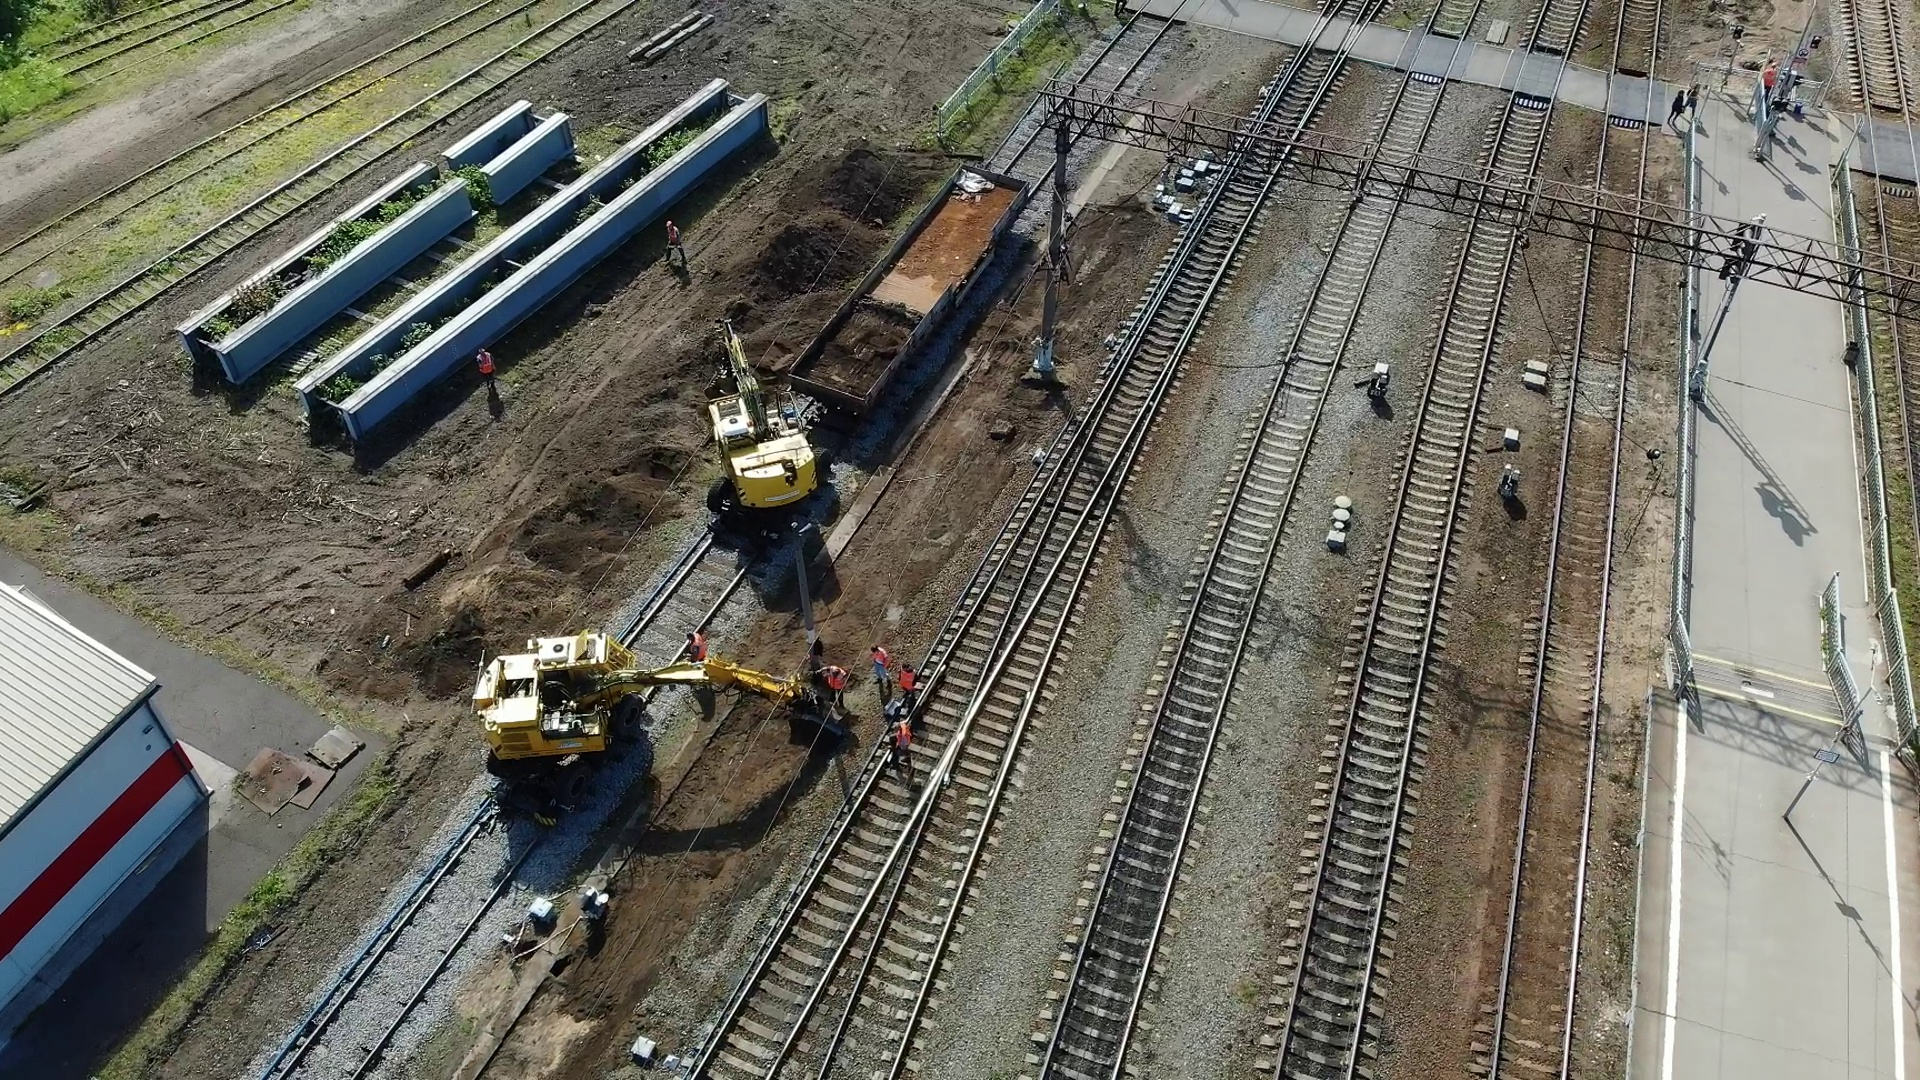kjtv: (468, 630, 674, 811), (696, 381, 833, 531)
